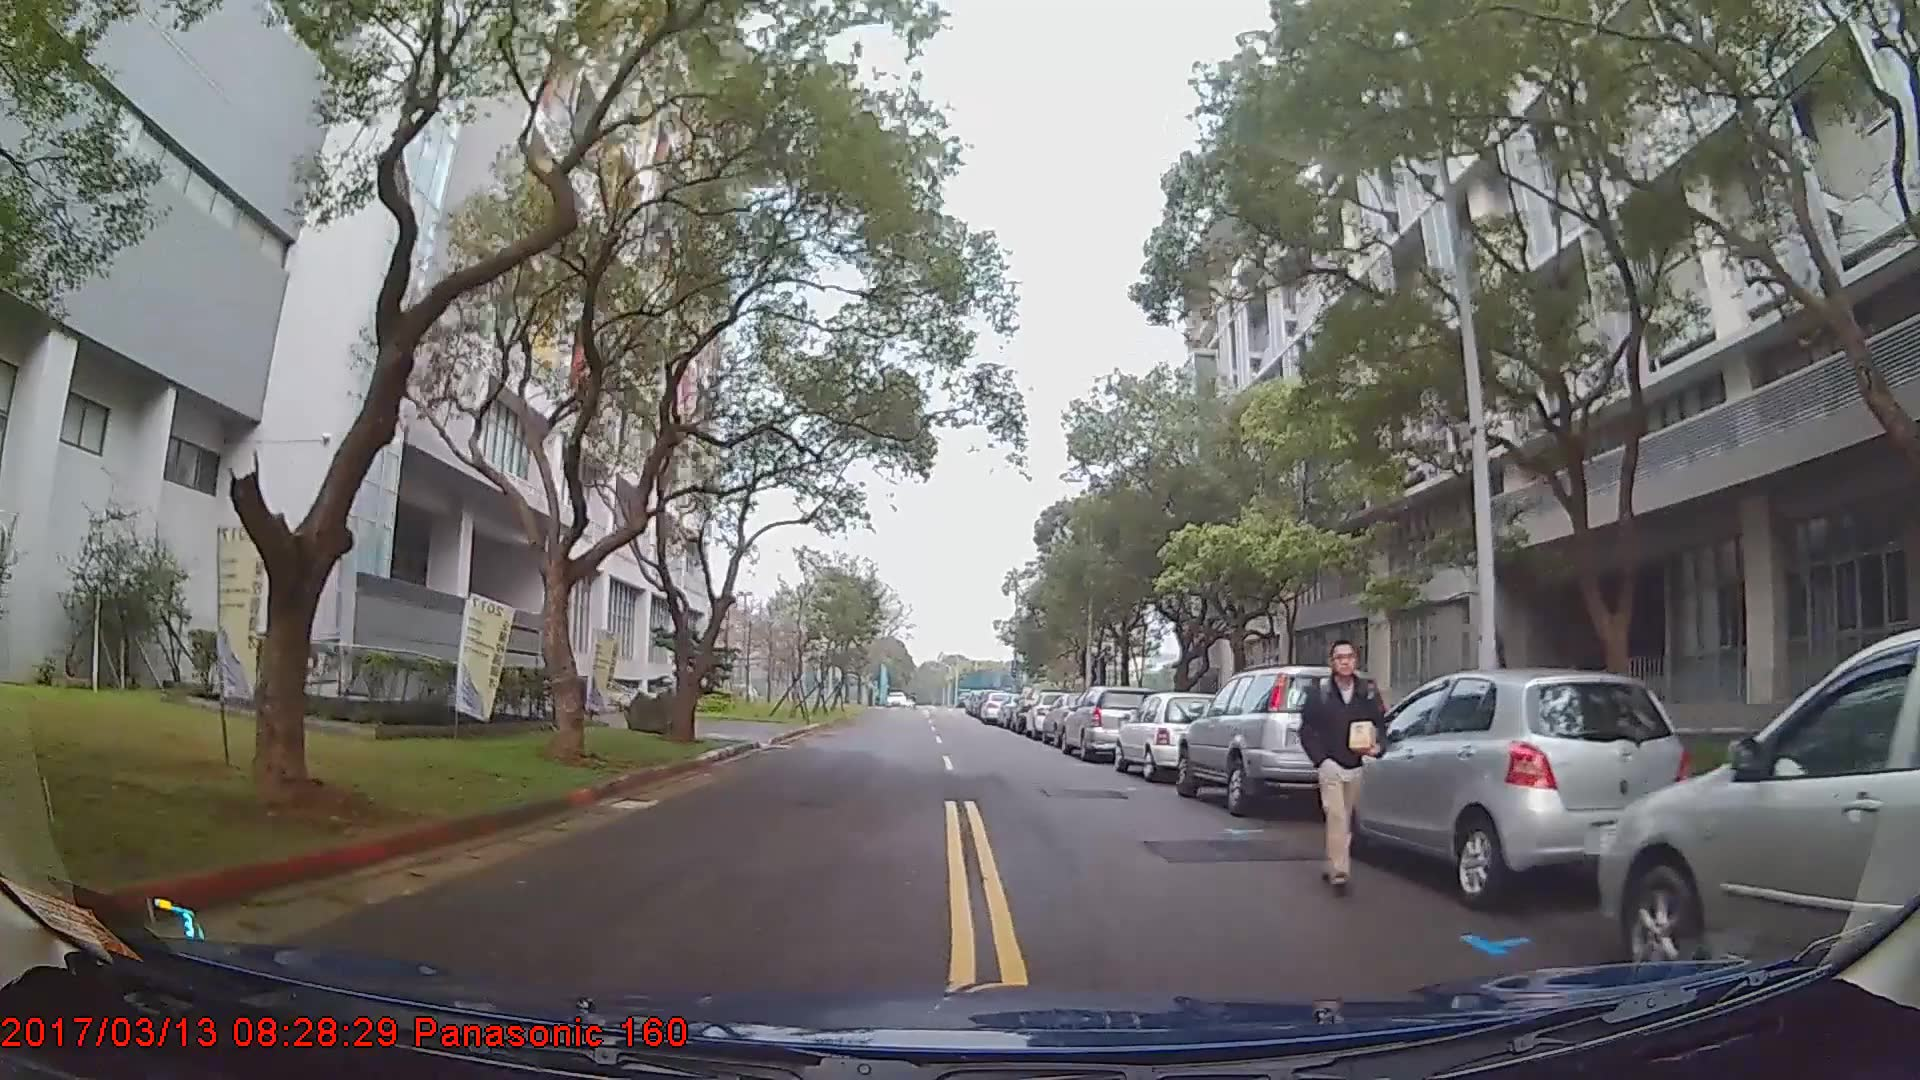pedestrian: (1302, 642, 1395, 894)
vehicle: (1596, 629, 1920, 989), (1328, 662, 1692, 909), (1176, 663, 1394, 814), (1112, 690, 1228, 779), (1059, 684, 1157, 761), (980, 687, 1018, 724)
